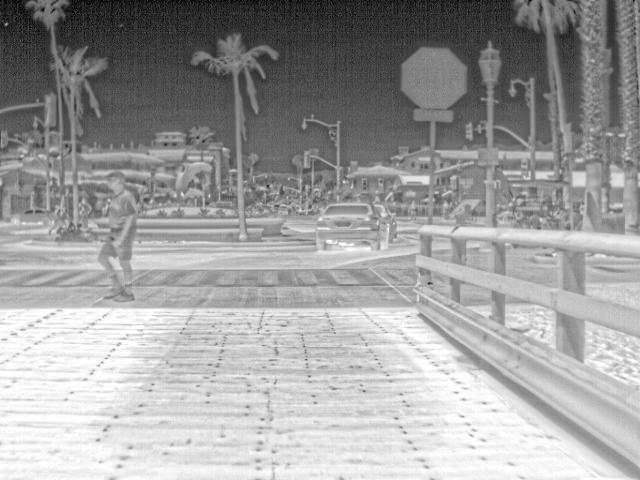car: (308, 204, 382, 252), (373, 202, 396, 240), (8, 205, 47, 226)
person: (96, 168, 139, 304), (46, 204, 64, 236), (78, 196, 93, 229), (405, 199, 418, 220), (440, 199, 453, 218)
